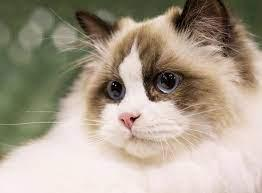ragdoll: (65, 1, 242, 173)
